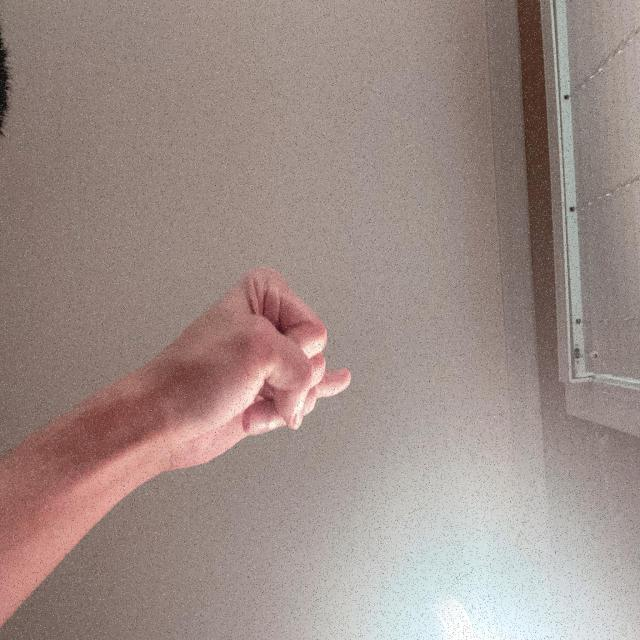J: (352, 373, 520, 640)
